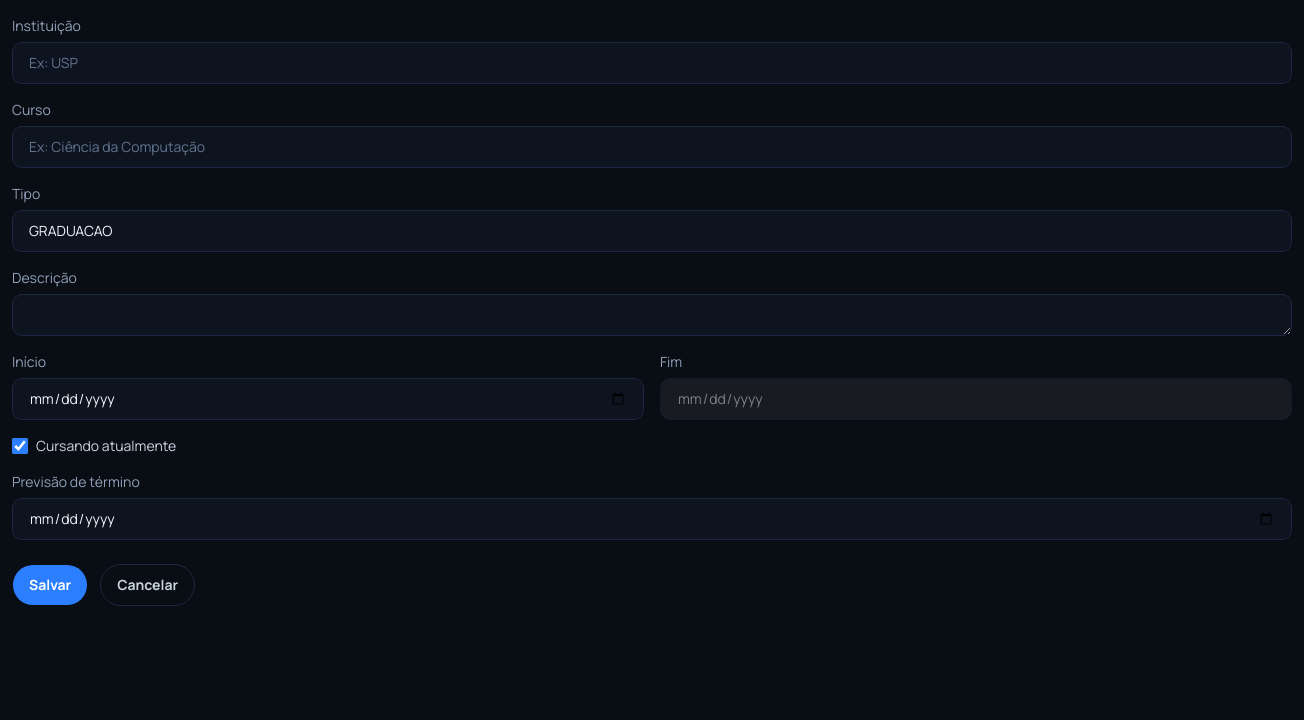
Test: EducationForm › shows validation errors without submitting
The width and height of the screenshot is (1304, 720).
Click the button "Salvar".
click(50, 585)  # box [12,564,88,606]
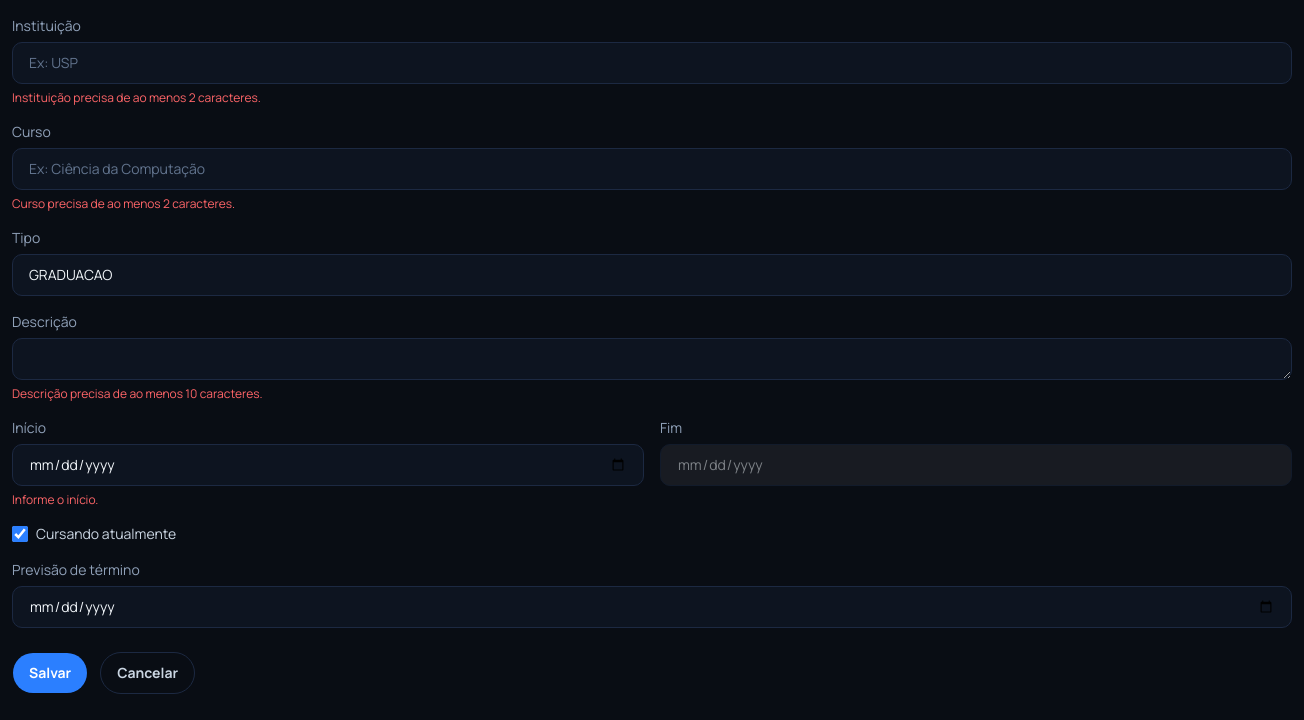
Now the text "Instituição precisa de ao menos 2 caracteres." is shown, box [12,89,261,106]
